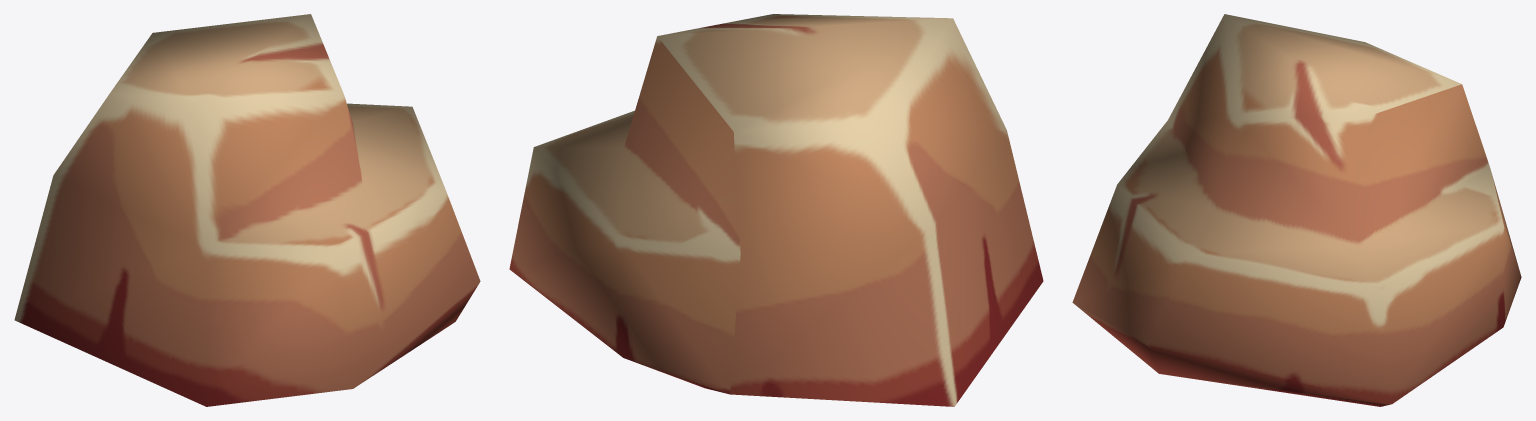
Rendered from stone_03.fbx.
3 renders of one model, left to right at view 1: azimuth 30°, elevation 25°; view 2: azimuth 150°, elevation 25°; view 3: azimuth 270°, elevation 25°, orthographic. The views are drawn at different scales.
Parts seen in each view (by area): view 1: pCube6; view 2: pCube6; view 3: pCube6.
Part boxes in pixels (x1,y1,x2,y2): pCube6: (14, 14, 480, 406); pCube6: (509, 14, 1043, 406); pCube6: (1072, 14, 1521, 406).
Size of the model in its own units: 134 by 82.61 by 129.
